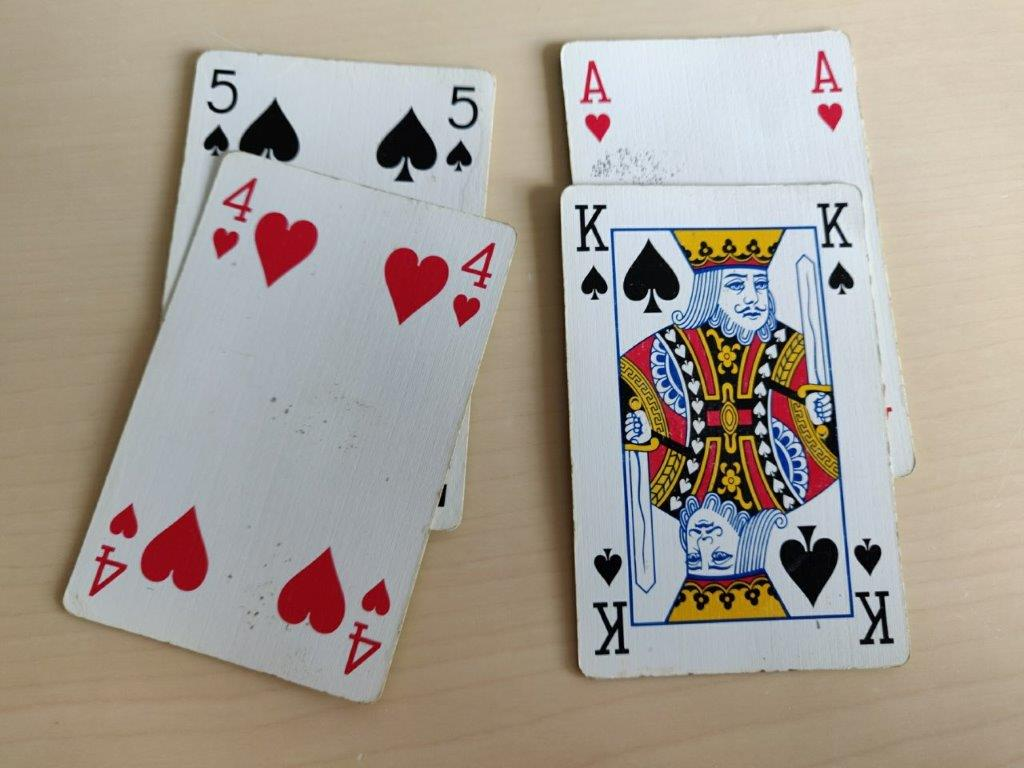4H: (196, 169, 265, 267), (447, 232, 498, 333)
5S: (190, 46, 245, 156), (433, 74, 480, 177)
AH: (566, 49, 623, 146), (800, 42, 849, 139)
KS: (807, 195, 863, 295), (572, 191, 614, 304)
